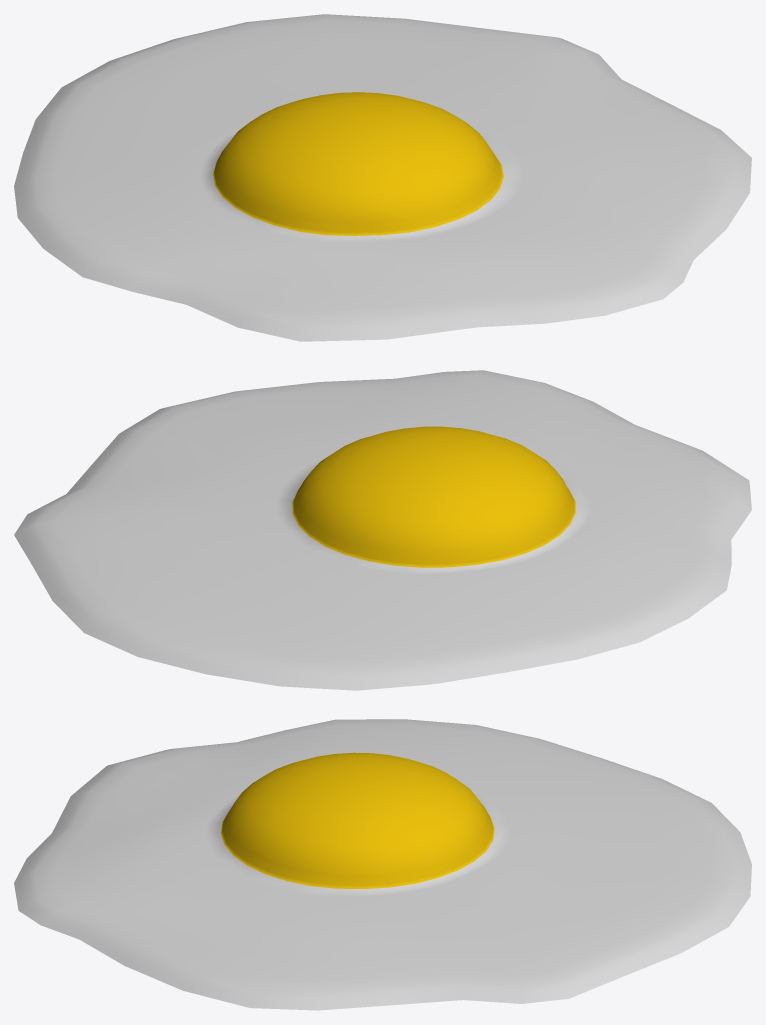
Rendered from EggOverE8.fbx.
3 renders of one model, top to bottom at view 1: azimuth 30°, elevation 25°; view 2: azimuth 150°, elevation 25°; view 3: azimuth 270°, elevation 25°, orthographic. The views are drawn at different scales.
Parts seen in each view (by area): view 1: Sphere.023; view 2: Sphere.023; view 3: Sphere.023.
Part boxes in pixels (box(x1,y1,x2,y2)): Sphere.023: box(14, 14, 751, 341); Sphere.023: box(14, 370, 751, 690); Sphere.023: box(14, 719, 751, 1010).
Bounding box in the file's own units: 495 × 61.24 × 533.
